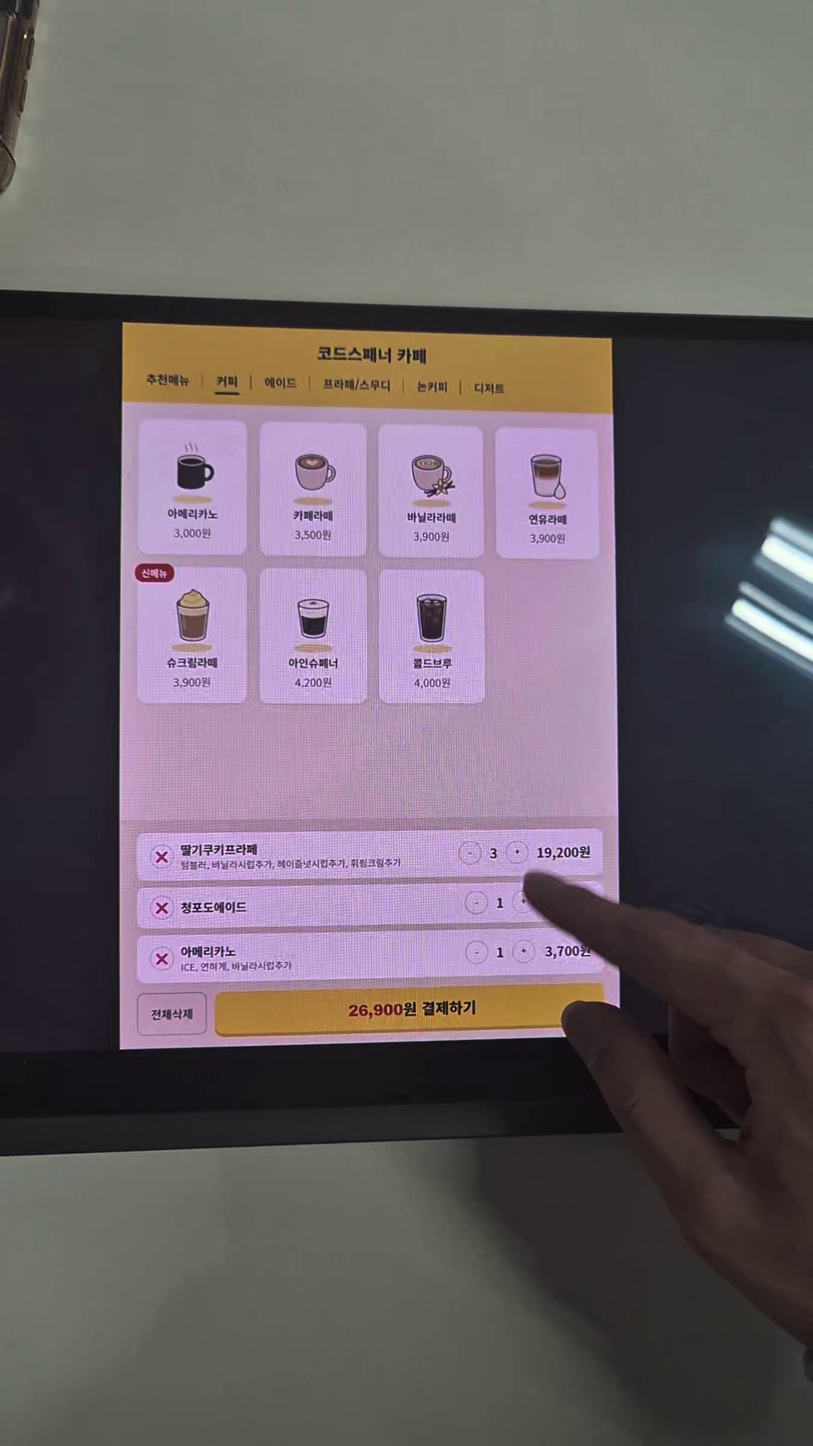action_button: (215, 983, 606, 1037), (137, 993, 207, 1035)
cart_item: (137, 927, 608, 984), (134, 828, 605, 881), (137, 881, 603, 929)
category_tab: (321, 375, 394, 393), (143, 370, 192, 388), (471, 378, 507, 397), (262, 373, 298, 391), (414, 378, 451, 395), (214, 373, 240, 389)
menu_back: (134, 563, 248, 704), (137, 420, 248, 555), (259, 420, 368, 557), (259, 567, 368, 704), (377, 424, 484, 559), (379, 569, 486, 704), (495, 426, 600, 559)
menu_name: (166, 505, 219, 521), (405, 510, 458, 525), (166, 655, 219, 669), (288, 656, 340, 670), (291, 508, 335, 522), (412, 656, 454, 670), (528, 512, 569, 526)
menu_price: (412, 529, 451, 544), (528, 531, 568, 545), (412, 675, 452, 689), (293, 528, 332, 542), (171, 675, 213, 688), (173, 526, 213, 539), (294, 676, 334, 689)
